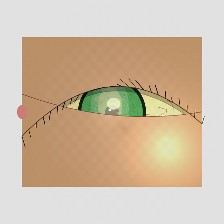corneal_ulcer: (81, 82, 139, 129)
